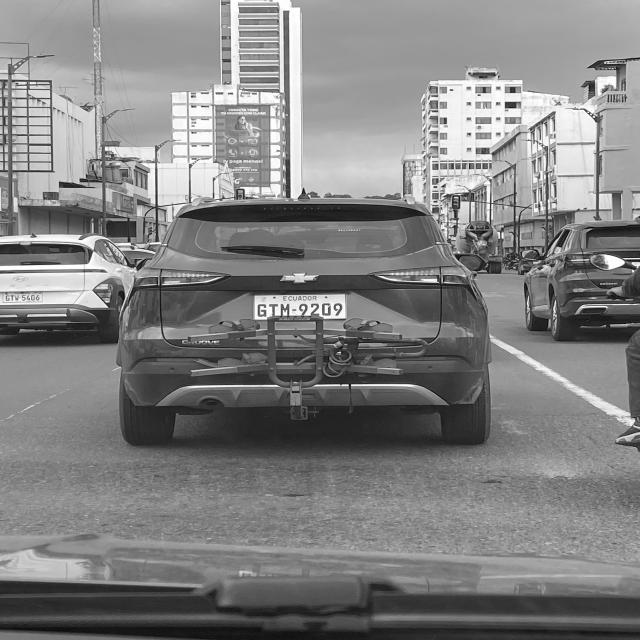Placa: (254, 294, 346, 319), (2, 292, 43, 303)
